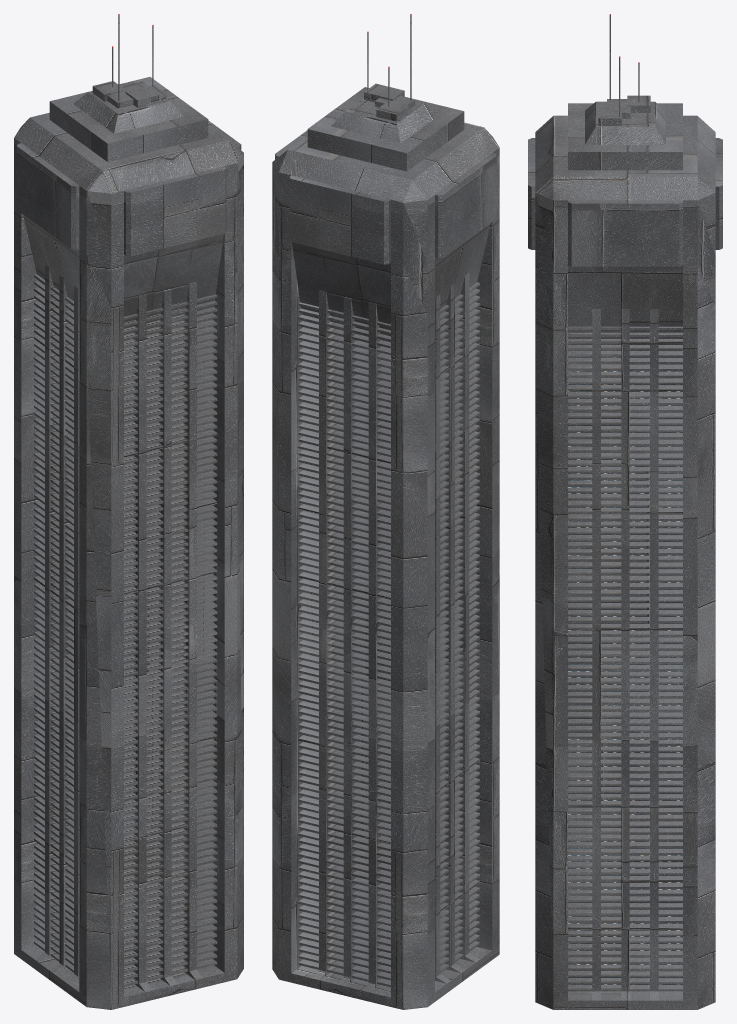
Rendered from cyberpunk-skyscraper-top-ads.glb.
3 renders of one model, left to right at view 1: azimuth 30°, elevation 25°; view 2: azimuth 150°, elevation 25°; view 3: azimuth 270°, elevation 25°, orthographic.
Parts seen in each view (by area): view 1: Building_10.001; view 2: Building_10.001; view 3: Building_10.001.
Part boxes in pixels (x1=…): Building_10.001: x1=14, y1=14, x2=243, y2=1009; Building_10.001: x1=272, y1=14, x2=499, y2=1009; Building_10.001: x1=528, y1=14, x2=722, y2=1009.
Size of the model in its own units: 146 by 786 by 146.
3 materials, 2 textured.
